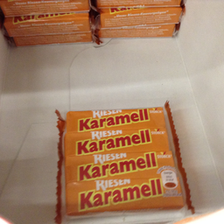candy: (55, 106, 195, 222)
